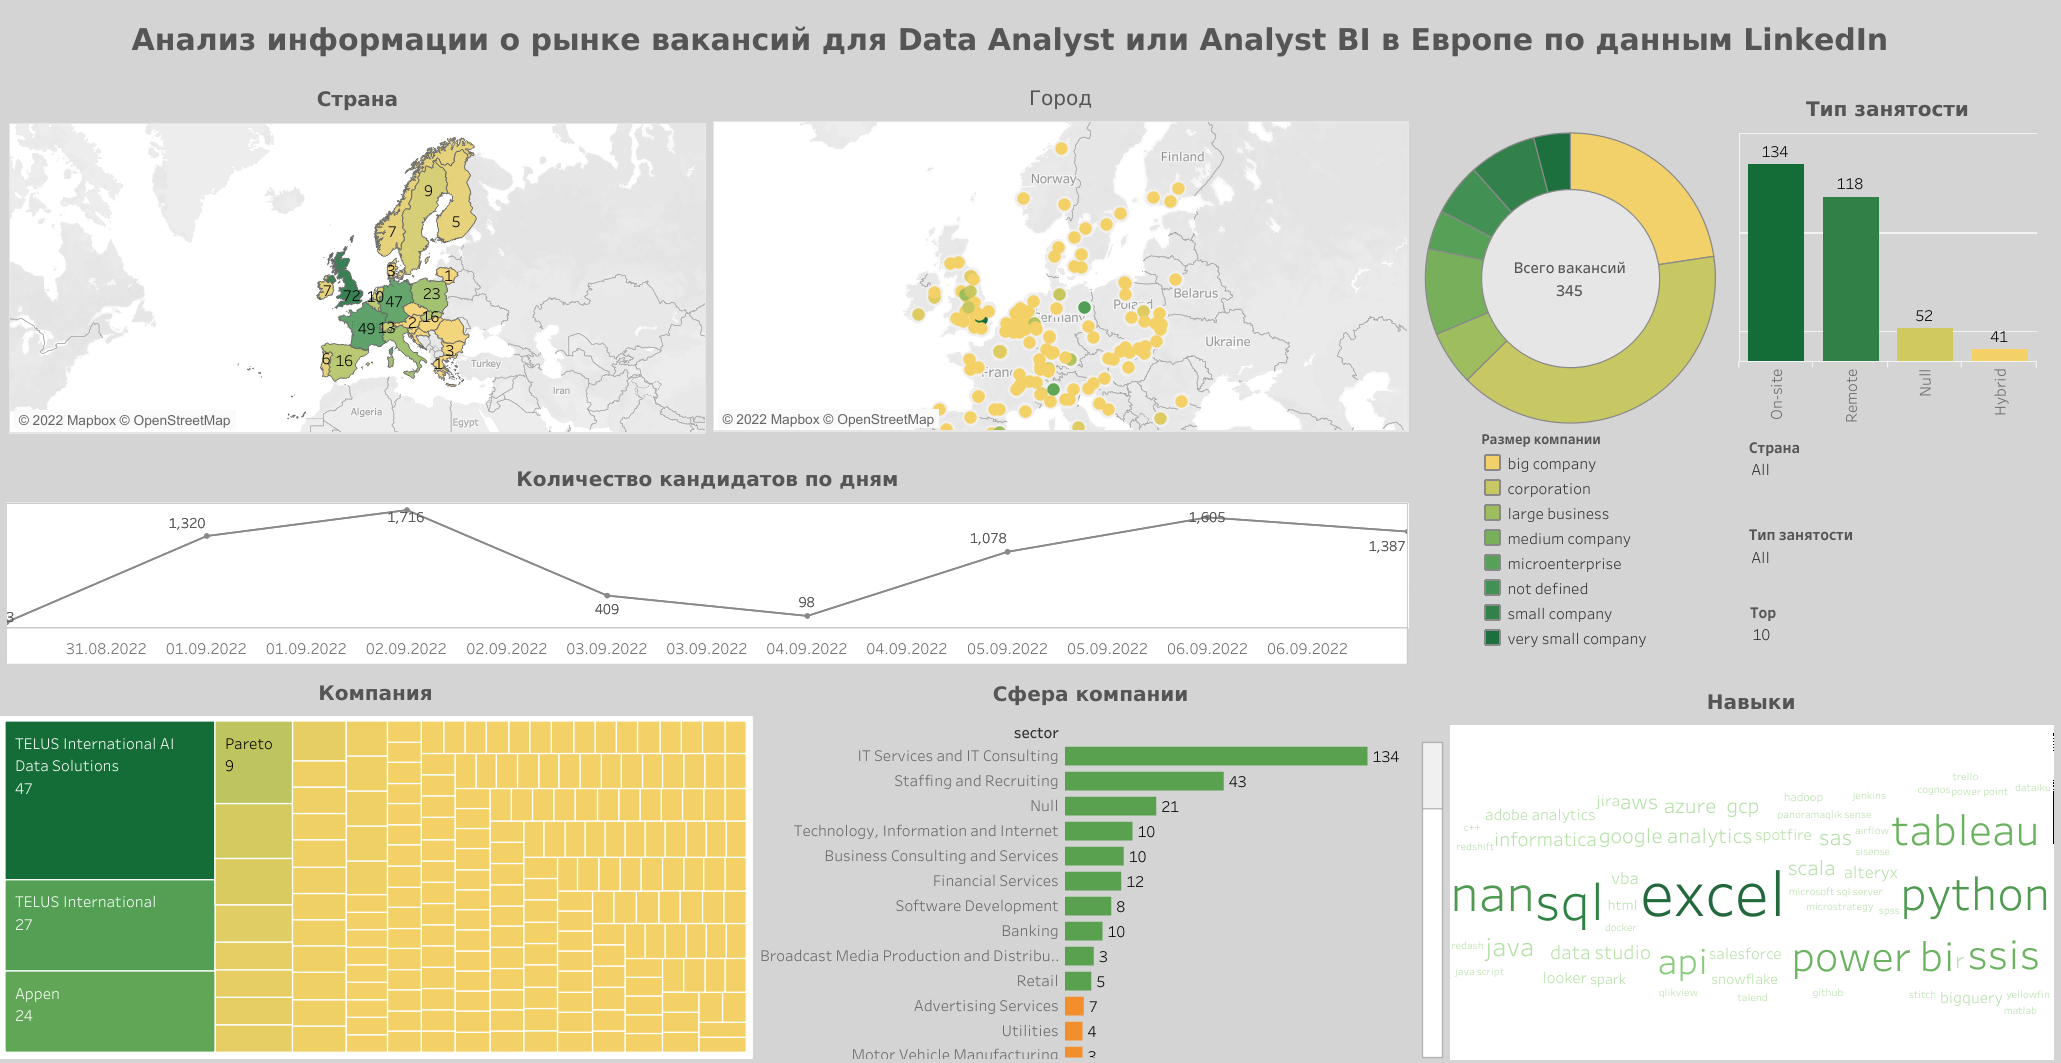

This screenshot's page, from the dashboard's own definition file:
{"tool":"tableau","page":{"name":"Dashboard 1","canvas":[1650,851],"ordinal":0},"visuals":[{"type":"worksheet","title":"Количество вакансий по горадом","mark":"Automatic","box":[569.6,63,557.6,283]},{"type":"worksheet","title":"Страна и тип занятости","mark":"Multipolygon","box":[7,64,557.6,283]},{"type":"worksheet","title":"Тип занятости ","mark":"Automatic","rows":["link"],"cols":["workplace_type"],"box":[1391.1,72,238,277]},{"type":"worksheet","title":"Всего вакансий","mark":"Pie","cols":["Calculation_959829686074712066","Calculation_959829686074712066"],"box":[1137.2,83,239,263]},{"type":"legend","title":"Всего вакансий","param":"[federated.1ov8o58189kal113wpdzm0cbqikn].[none:company_size:nk]","box":[1184,341,177.2,198]},{"type":"filter","title":"Страна и тип занятости","param":"[federated.1ov8o58189kal113wpdzm0cbqikn].[none:country:nk]","box":[1399.1,347,242,56]},{"type":"worksheet","title":"Кандидаты","mark":"Automatic","rows":["Calculation_959829686091108363"],"cols":["date","date"],"box":[5,368,1122.2,164]},{"type":"filter","title":"Страна и тип занятости","param":"[federated.1ov8o58189kal113wpdzm0cbqikn].[none:workplace_type:nk]","box":[1399.1,417,239,52]},{"type":"parameter","param":"[Parameters].[Parameter 1]","box":[1400.1,479,234,71]},{"type":"worksheet","title":"Компании","mark":"Automatic","box":[0,539,601.4,308]},{"type":"worksheet","title":"Отрасль","mark":"Automatic","rows":["sector"],"cols":["link"],"box":[608.4,540,546.7,306]},{"type":"worksheet","title":"Скилс","mark":"Text","box":[1160.1,546,481.9,302]}]}

Visuals, with their boxes in screenshot pixels (x1, y1, x2, y2), scaled from the page's 1650x851 canvas onto the 2061x1063 screenshot:
"Количество вакансий по горадом" worksheet: left=711, top=79, right=1408, bottom=432
"Страна и тип занятости" worksheet (Multipolygon marks): left=9, top=80, right=705, bottom=433
"Тип занятости " worksheet: left=1738, top=90, right=2035, bottom=436
"Всего вакансий" worksheet (Pie marks): left=1420, top=104, right=1719, bottom=432
"Всего вакансий" legend: left=1479, top=426, right=1700, bottom=673
"Страна и тип занятости" filter: left=1748, top=433, right=2050, bottom=503
"Кандидаты" worksheet: left=6, top=460, right=1408, bottom=665
"Страна и тип занятости" filter: left=1748, top=521, right=2046, bottom=586
parameter: left=1749, top=598, right=2041, bottom=687
"Компании" worksheet: left=0, top=673, right=751, bottom=1058
"Отрасль" worksheet: left=760, top=675, right=1443, bottom=1057
"Скилс" worksheet (Text marks): left=1449, top=682, right=2051, bottom=1059
